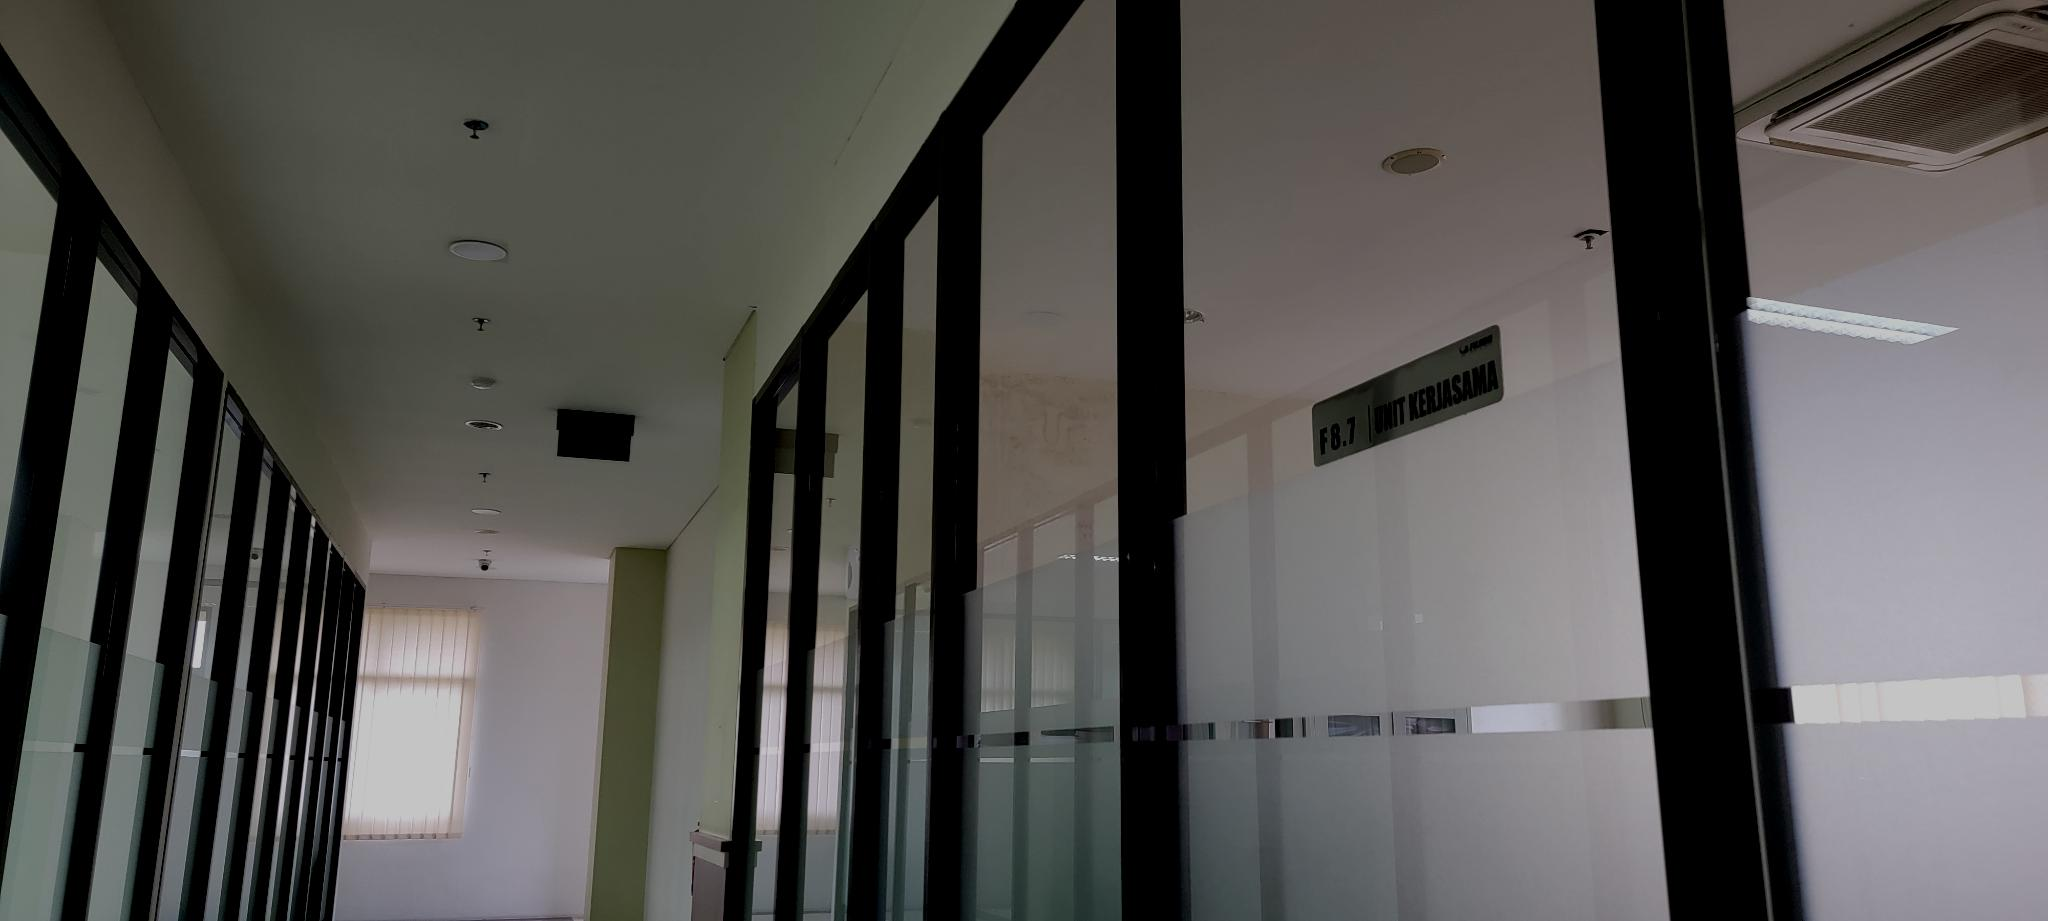plate: (1310, 323, 1505, 472)
